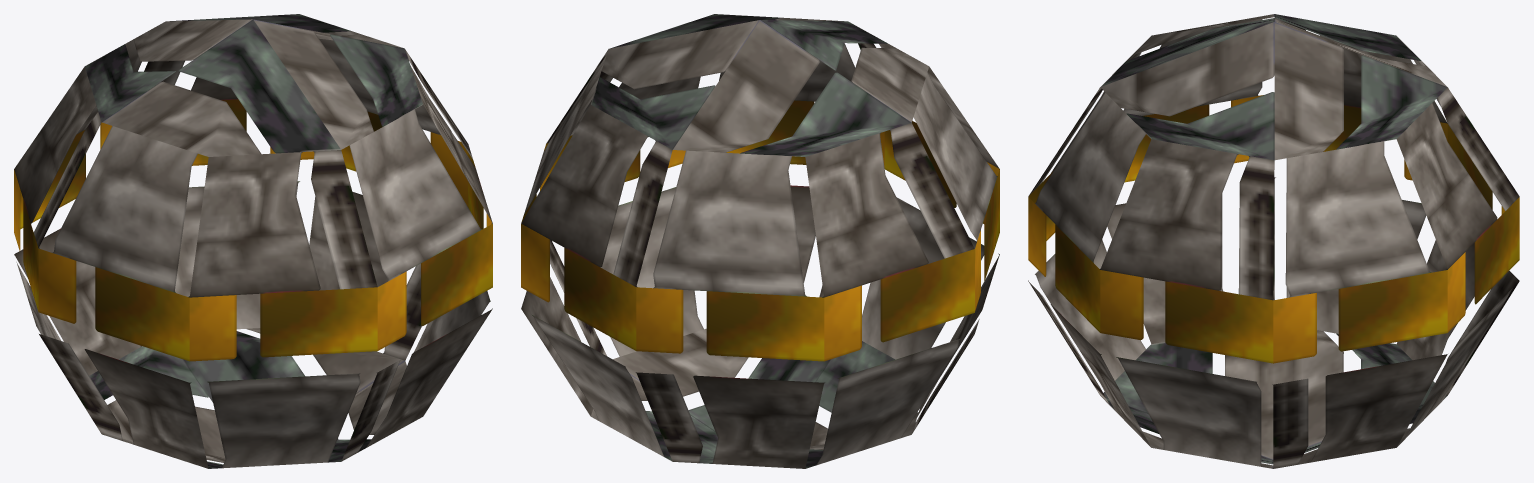
The picture shows the model from 3 angles, left to right: view 1: azimuth 30°, elevation 25°; view 2: azimuth 150°, elevation 25°; view 3: azimuth 270°, elevation 25°; orthographic projection.
Visible parts, largest first — view 1: T1L2M005_14; view 2: T1L2M005_14; view 3: T1L2M005_14.
Part boxes in pixels (<box>): T1L2M005_14: <box>14,14,492,468</box>; T1L2M005_14: <box>521,14,999,468</box>; T1L2M005_14: <box>1028,14,1519,468</box>.
Size of the model in its own units: 0.4121 by 0.4062 by 0.4131.
